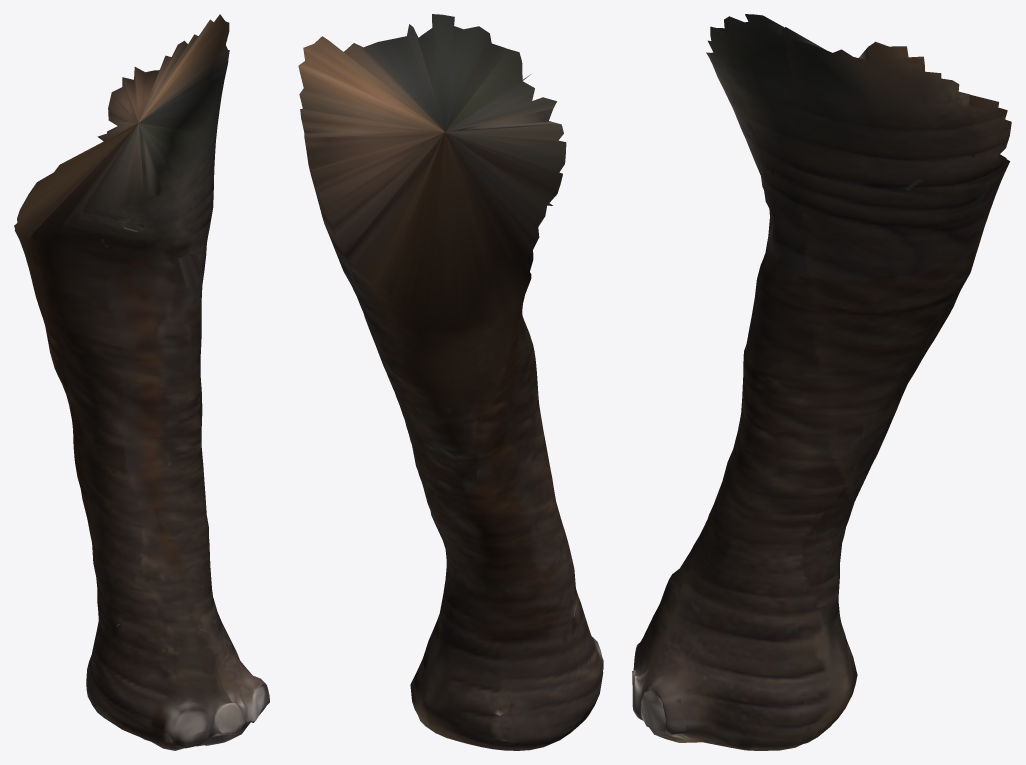
File: pata_DelanIzq.obj
3 views of the same model, side by side, from view 1: azimuth 30°, elevation 25°; view 2: azimuth 150°, elevation 25°; view 3: azimuth 270°, elevation 25° (orthographic). The views are drawn at different scales.
Parts seen in each view (by area): view 1: pata_DelanIzq; view 2: pata_DelanIzq; view 3: pata_DelanIzq.
Part boxes in pixels (left/top/right/bottom): pata_DelanIzq: left=14, top=14, right=269, bottom=750; pata_DelanIzq: left=298, top=14, right=603, bottom=750; pata_DelanIzq: left=632, top=14, right=1011, bottom=750.
Bounding box in the file's own units: 42.37 × 131 × 60.01.
1 material, 1 textured.
